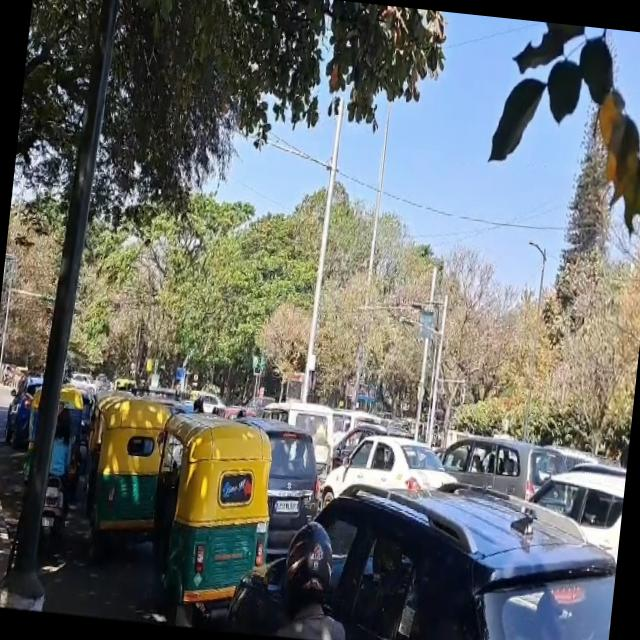cars: (311, 479, 622, 640), (323, 430, 464, 522), (442, 434, 575, 508), (251, 428, 327, 557)
